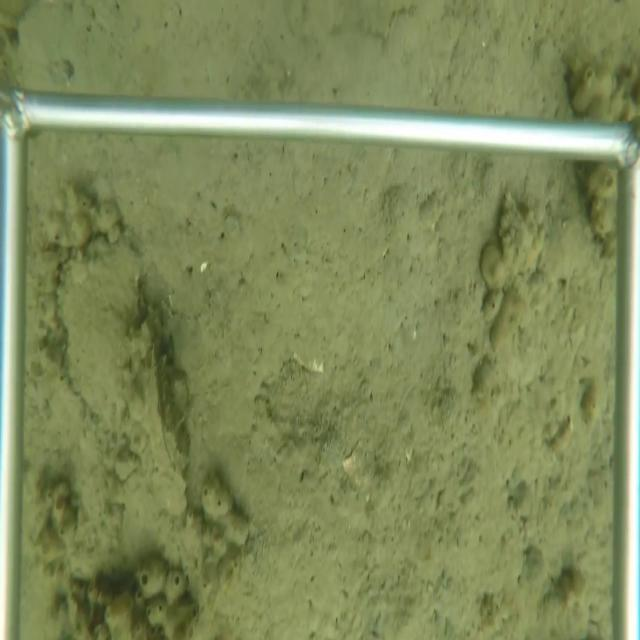Oyster-Closed: (142, 343, 190, 524)
Oyster-Indeterminate: (54, 220, 155, 443)
